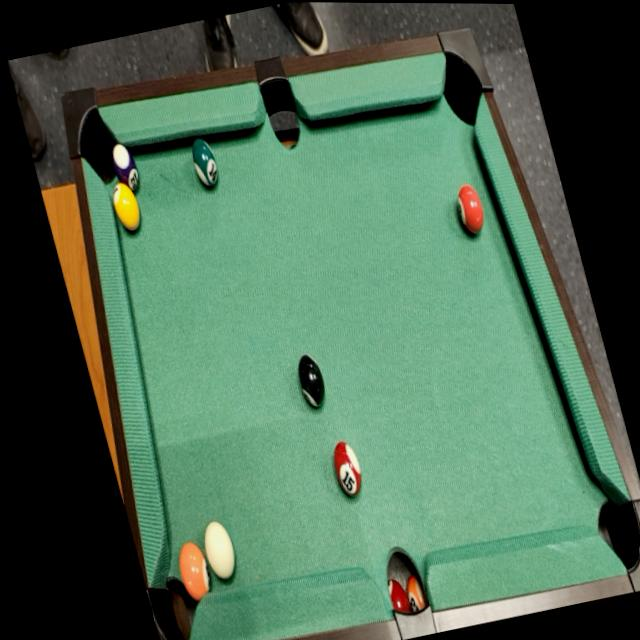cue ball: (197, 517, 242, 587)
other: (170, 538, 218, 604), (327, 436, 369, 504), (290, 348, 331, 414), (104, 178, 148, 238), (449, 176, 490, 239), (185, 134, 225, 190), (106, 139, 146, 194)
